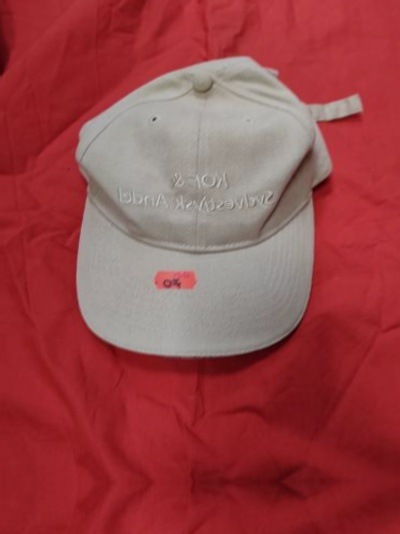Hat: (49, 51, 379, 369)
